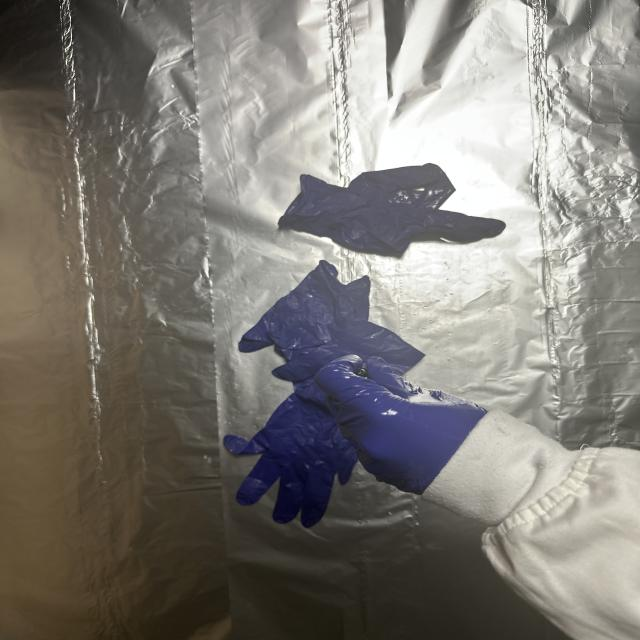gloves_contaminated: (315, 354, 486, 495)
